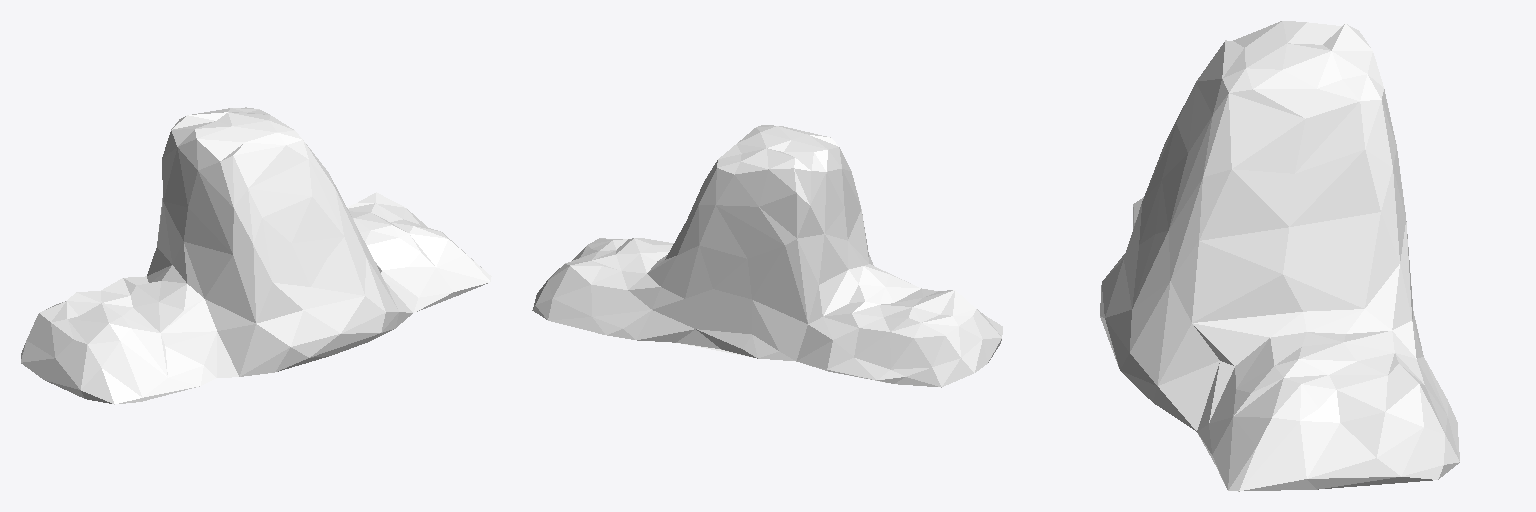
URDF robot description (objects/object_1.obj):
<robot name="objects/object_1.obj">
	<link name="_name">
		<visual>
			<origin xyz="-0.12419551051551977 0.13368443158810817 0.8712440180922469" rpy="0.0 0.0 0.0" />
			<geometry>
				<mesh filename="objects/object_1.obj" scale="1 1 1" />
			</geometry>
			<material name="texture">
				<color rgba="1.0 1.0 1.0 1.0" />
			</material>
		</visual>
		<collision>
			<origin xyz="-0.12419551051551977 0.13368443158810817 0.8712440180922469" rpy="0.0 0.0 0.0" />
			<geometry>
				<mesh filename="objects/object_1_vhacd.obj" scale="1 1 1" />
			</geometry>
		</collision>
		<inertial>
			<mass value="1.0" />
			<inertia ixx="1.0" ixy="0.0" ixz="0.0" iyy="1.0" iyz="0.0" izz="1.0" />
		</inertial>
	</link>
</robot>

--- Render facts (derived) ---
The picture shows the robot from 3 angles, left to right: view 1: azimuth 30°, elevation 25°; view 2: azimuth 150°, elevation 25°; view 3: azimuth 270°, elevation 25°; orthographic projection.
Model objects/object_1.obj with 1 links and 0 joints (none), rooted at _name, posed every joint at zero.
Links seen in each view (by area): view 1: _name; view 2: _name; view 3: _name.
Link boxes in pixels (<box>): _name: <box>21,107,491,404</box>; _name: <box>532,125,1002,387</box>; _name: <box>1100,21,1459,491</box>.
Bounding box of the posed robot: 0.0946 × 0.0465 × 0.0411 m (x, y, z).
1 mesh visuals loaded from 1 distinct referenced files (1 OBJ).